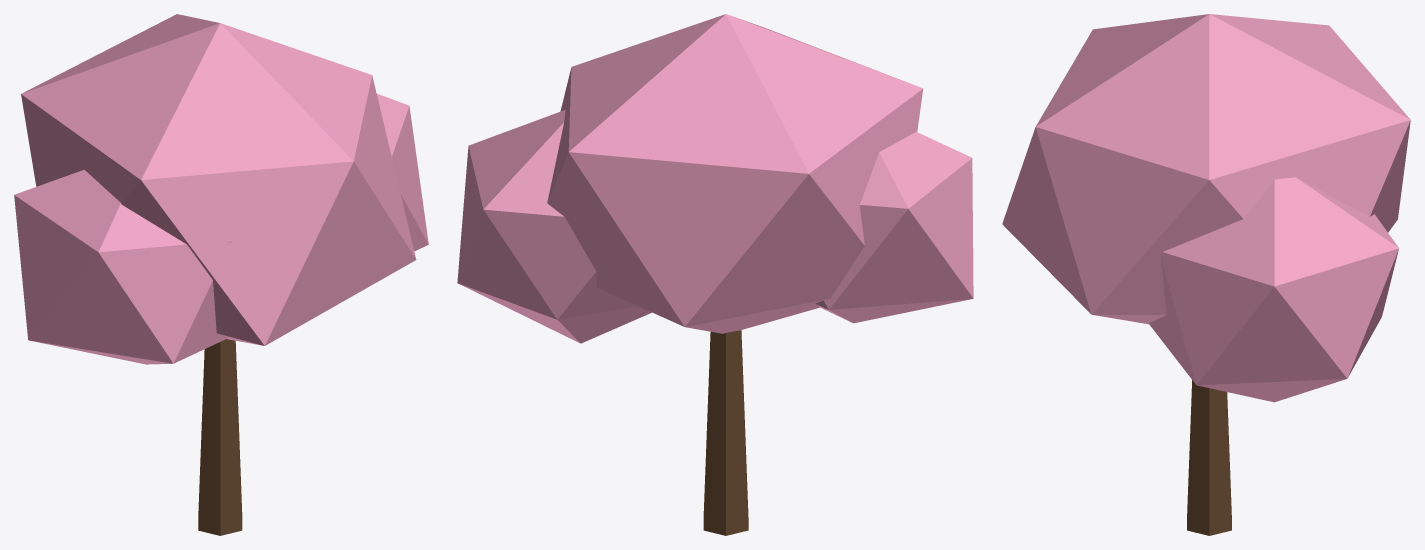
The model's file is tree_cherry.glb.
The picture shows the model from 3 angles, left to right: view 1: azimuth 30°, elevation 25°; view 2: azimuth 150°, elevation 25°; view 3: azimuth 270°, elevation 25°; orthographic projection.
Parts seen in each view (by area): view 1: tree_cherry; view 2: tree_cherry; view 3: tree_cherry.
Part boxes in pixels (box(x1,y1,x2,y2)): tree_cherry: box(14, 14, 428, 535); tree_cherry: box(457, 14, 973, 535); tree_cherry: box(1002, 14, 1410, 535).
Bounding box in the file's own units: 0.3964 × 0.4334 × 0.3141.
